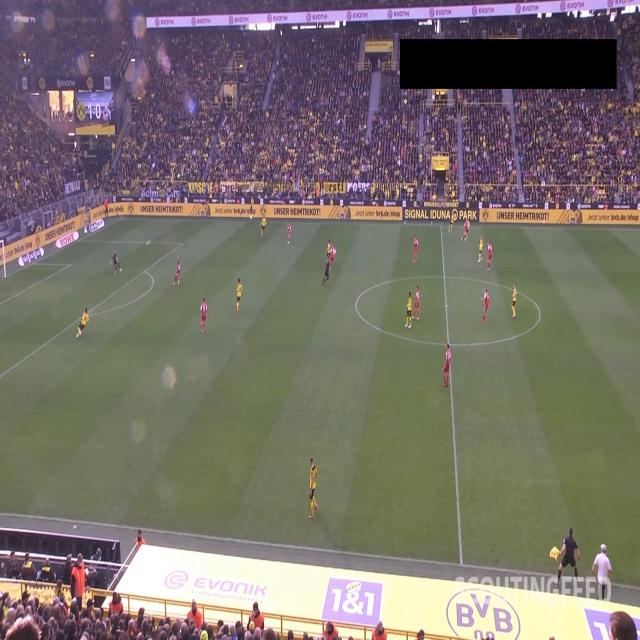ball: (145, 238, 151, 247)
